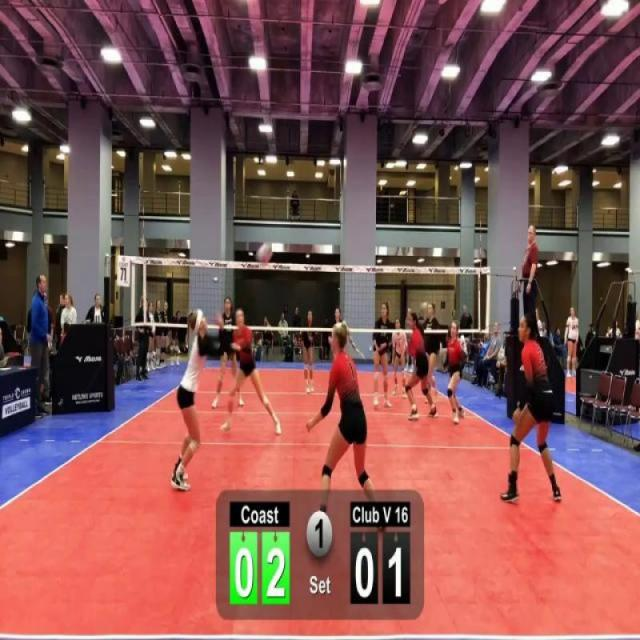volleyball: (254, 239, 273, 266)
